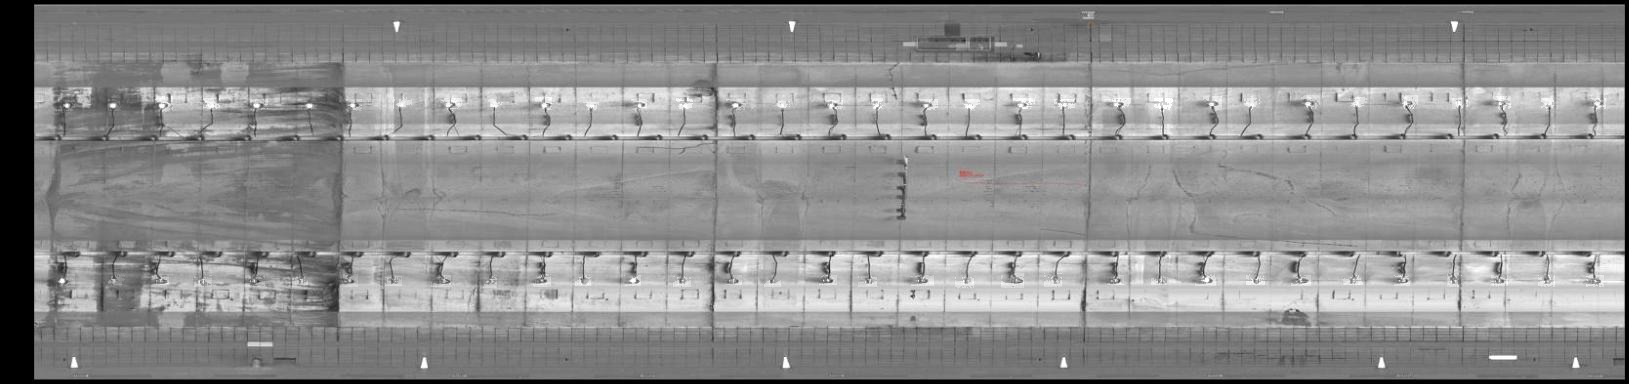light: (1002, 273, 1024, 289), (153, 95, 173, 112), (336, 274, 358, 287), (440, 98, 462, 111), (1203, 95, 1222, 111), (1301, 95, 1320, 110), (955, 274, 974, 289), (54, 274, 75, 287), (1400, 95, 1418, 111), (1154, 98, 1173, 112), (202, 98, 220, 112), (1012, 98, 1035, 109), (911, 275, 934, 286), (1054, 99, 1075, 111), (244, 275, 265, 287), (1195, 274, 1216, 286), (1493, 95, 1511, 110), (1044, 273, 1062, 287), (1348, 97, 1367, 110), (1112, 98, 1131, 110), (393, 97, 412, 109), (248, 99, 268, 111), (431, 275, 451, 287), (535, 97, 552, 111), (104, 97, 121, 111), (533, 274, 551, 287), (673, 274, 691, 287), (917, 99, 938, 110), (102, 275, 125, 285), (858, 275, 877, 287), (1452, 98, 1468, 112), (726, 99, 746, 110), (150, 274, 169, 285), (1246, 274, 1265, 285), (1291, 275, 1311, 286), (963, 99, 980, 112), (1244, 98, 1261, 110), (194, 275, 212, 287), (1538, 275, 1555, 287), (1586, 275, 1604, 287), (1447, 273, 1462, 287), (1541, 98, 1556, 111), (676, 98, 693, 110), (345, 99, 362, 111), (58, 99, 75, 111), (382, 276, 402, 286), (1343, 275, 1363, 285), (1491, 275, 1508, 286), (292, 275, 308, 287), (819, 275, 837, 285), (1590, 98, 1606, 109), (575, 275, 591, 286), (624, 275, 641, 286), (823, 100, 843, 109), (764, 277, 781, 287), (483, 275, 497, 289), (1394, 275, 1410, 286), (301, 101, 320, 110), (1107, 275, 1124, 285), (1151, 275, 1168, 285), (488, 99, 503, 110), (582, 102, 599, 111), (726, 275, 742, 285), (871, 98, 883, 110), (631, 99, 647, 108), (777, 101, 790, 111)
